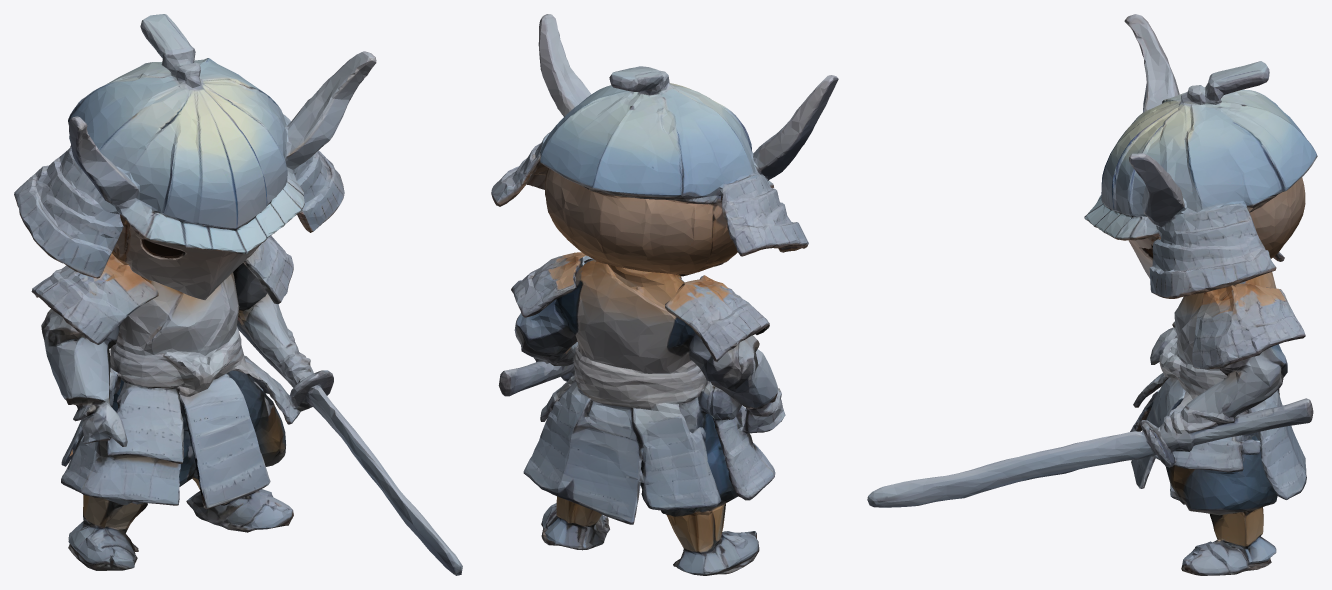
File: Player.A.glb
3 views of the same model, side by side, from view 1: azimuth 30°, elevation 25°; view 2: azimuth 150°, elevation 25°; view 3: azimuth 270°, elevation 25° (orthographic). The views are drawn at different scales.
Parts seen in each view (by area): view 1: textured_mesh.obj; view 2: textured_mesh.obj; view 3: textured_mesh.obj.
Boxes of the visible parts, x1=… form: textured_mesh.obj: x1=14, y1=14, x2=462, y2=575; textured_mesh.obj: x1=491, y1=14, x2=838, y2=575; textured_mesh.obj: x1=867, y1=14, x2=1317, y2=575.
Size of the model in its own units: 1.26 by 1.99 by 1.73.
1 material, 1 textured.
